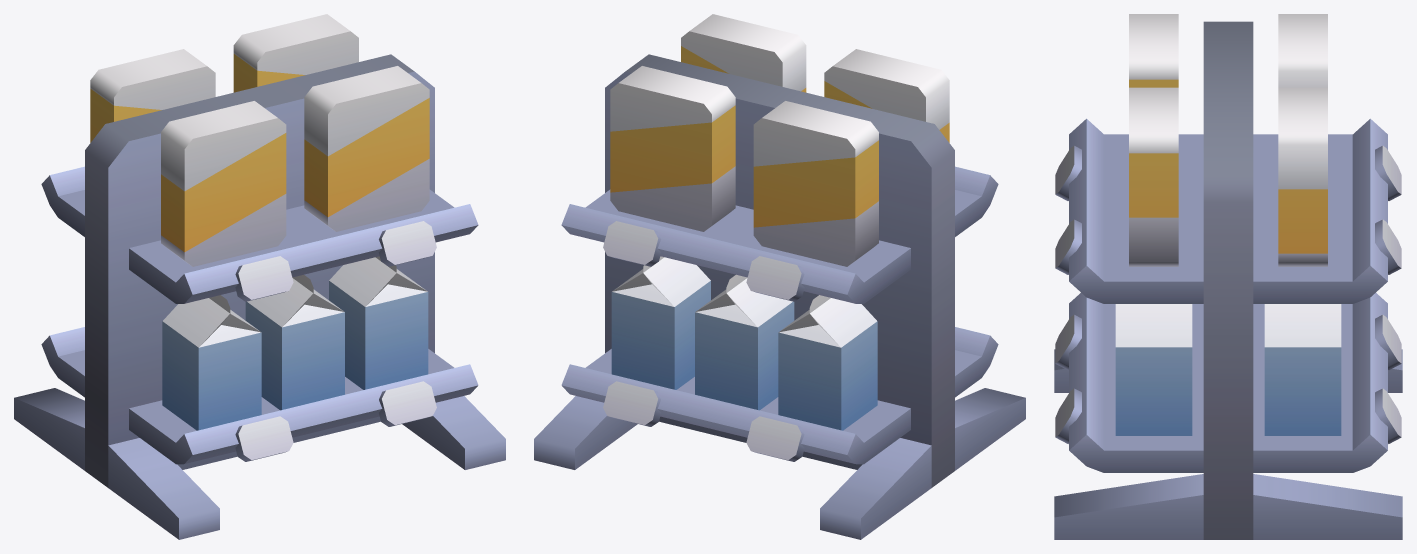
The model's file is shelf-boxes.glb.
3 views of the same model, side by side, from view 1: azimuth 30°, elevation 25°; view 2: azimuth 150°, elevation 25°; view 3: azimuth 270°, elevation 25° (orthographic). The views are drawn at different scales.
Parts seen in each view (by area): view 1: shelf-boxes, box (×4), carton (×3); view 2: shelf-boxes, box (×4), carton (×3); view 3: shelf-boxes, box (×4), carton (×2).
Part boxes in pixels (bbox=[...]): shelf-boxes: bbox=[14, 54, 505, 539]; box (×4): bbox=[90, 14, 429, 266]; carton (×3): bbox=[162, 256, 428, 430]; shelf-boxes: bbox=[534, 54, 1025, 539]; box (×4): bbox=[610, 14, 949, 266]; carton (×3): bbox=[611, 256, 877, 430]; shelf-boxes: bbox=[1054, 21, 1402, 539]; box (×4): bbox=[1129, 14, 1327, 266]; carton (×2): bbox=[1115, 304, 1341, 435].
Size of the model in its own units: 0.8 by 0.85 by 0.7.
Materials: 1 (1 with a texture image).
